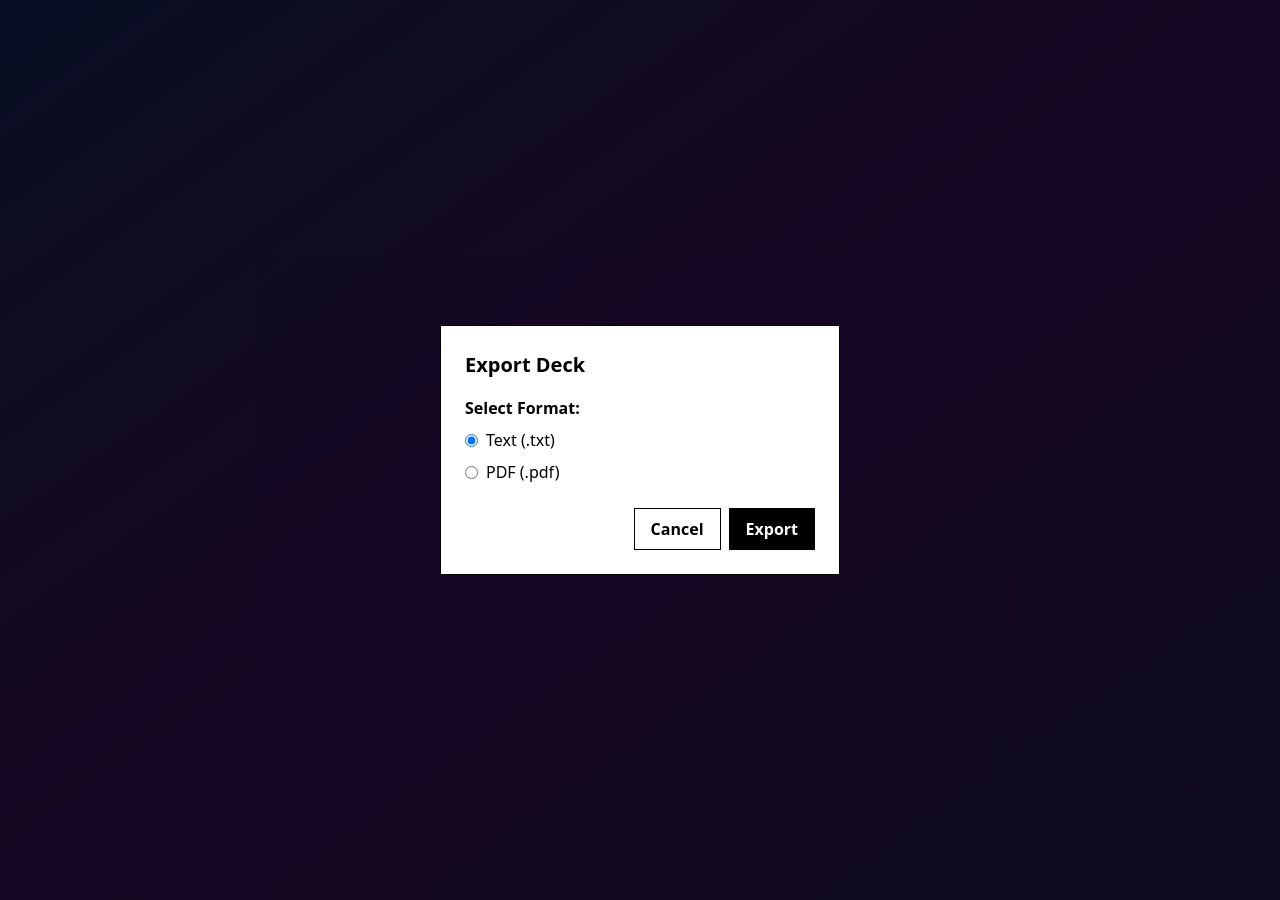
Test: ExportMenu › Export Actions › should show loading state during export
Click the button "Export": x=772, y=529 [728,508,815,550]
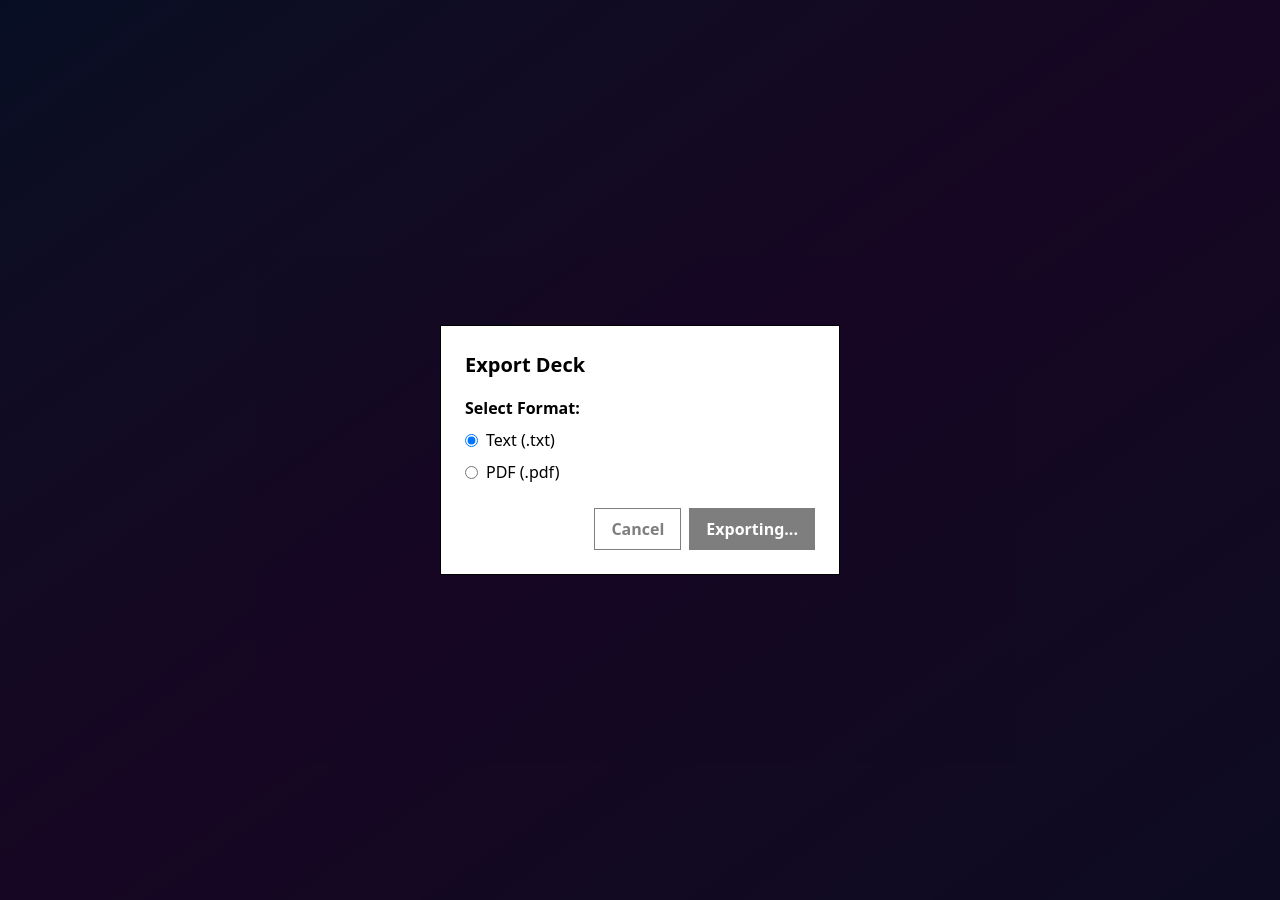
Check: the button "Exporting..." is disabled, box [689,508,815,550]
